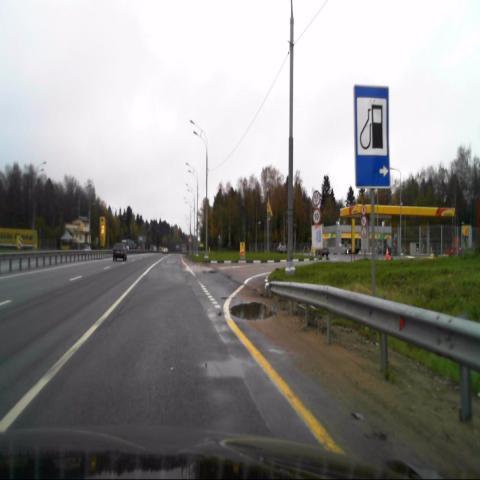7_3: (354, 83, 389, 187)
